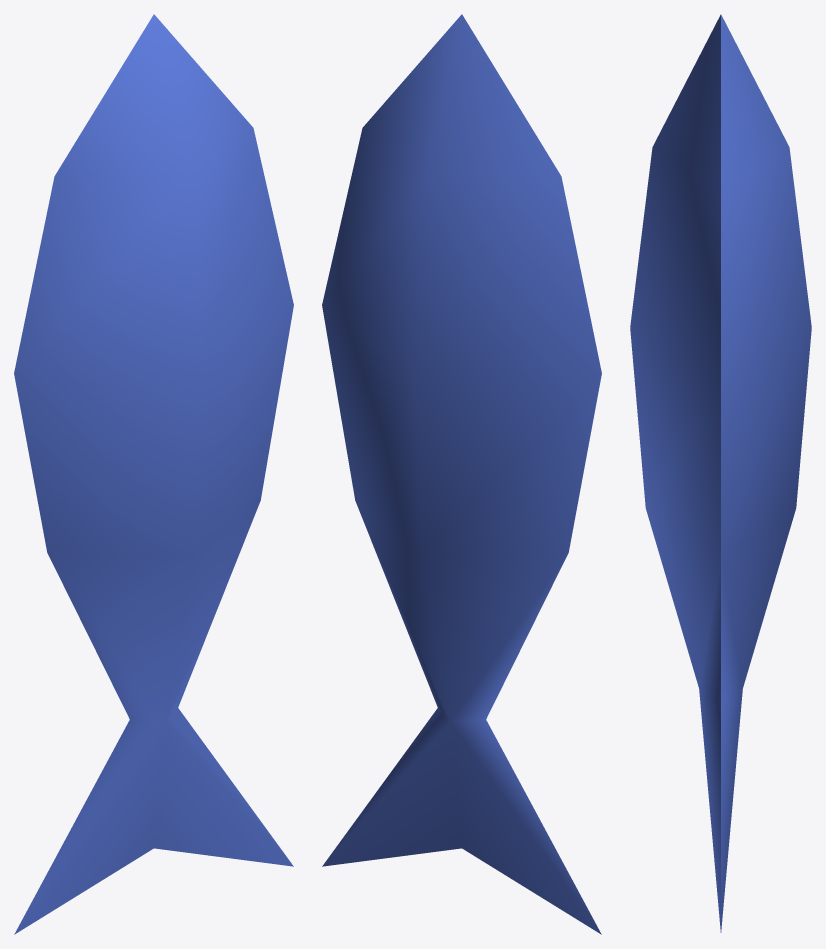
File: Prop_Fish_00_dummy.FBX
3 renders of one model, left to right at view 1: azimuth 30°, elevation 25°; view 2: azimuth 150°, elevation 25°; view 3: azimuth 270°, elevation 25°, orthographic. The views are drawn at different scales.
Parts seen in each view (by area): view 1: Fish; view 2: Fish; view 3: Fish.
Part boxes in pixels (x1=…): Fish: x1=14, y1=14, x2=293, y2=934; Fish: x1=322, y1=14, x2=601, y2=934; Fish: x1=630, y1=14, x2=811, y2=932.
Bounding box in the file's own units: 15.04 × 45.52 × 8.77.
